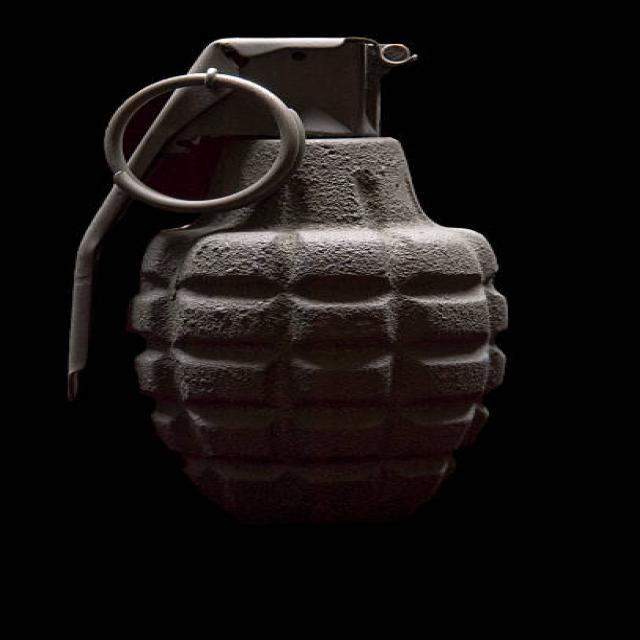grenade: (41, 29, 516, 526)
